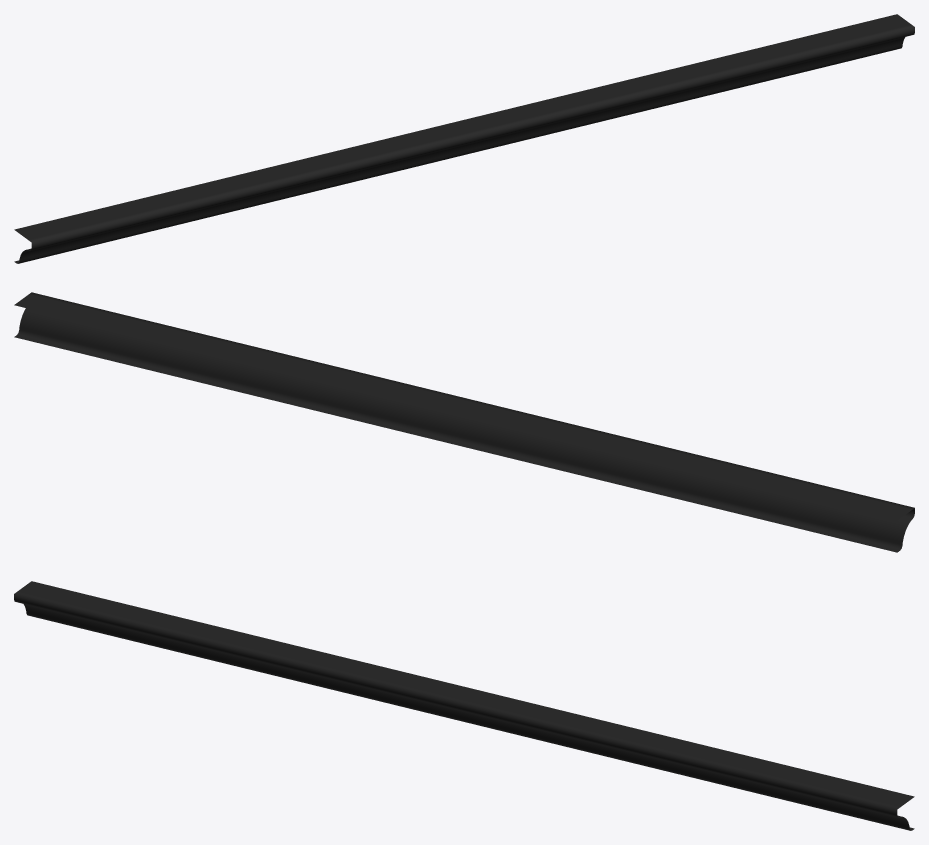
Rendered from Ceiling_BorderTile.dae.
3 views of the same model, one above another, from view 1: azimuth 30°, elevation 25°; view 2: azimuth 150°, elevation 25°; view 3: azimuth 330°, elevation 25° (orthographic).
Parts seen in each view (by area): view 1: pCube1; view 2: pCube1; view 3: pCube1.
Part boxes in pixels (bbox=[...]): pCube1: bbox=[14, 14, 914, 263]; pCube1: bbox=[14, 292, 914, 552]; pCube1: bbox=[14, 581, 914, 830].
Bounding box in the file's own units: 4 × 0.1384 × 0.1384.
1 material, 1 textured.
